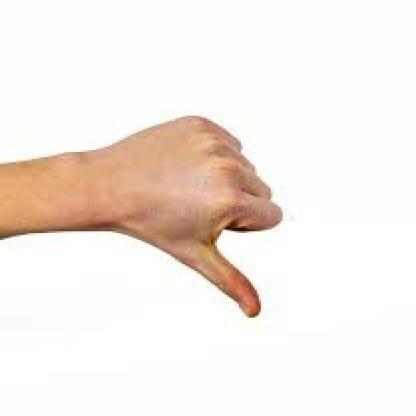thumb_down: (117, 112, 283, 322)
